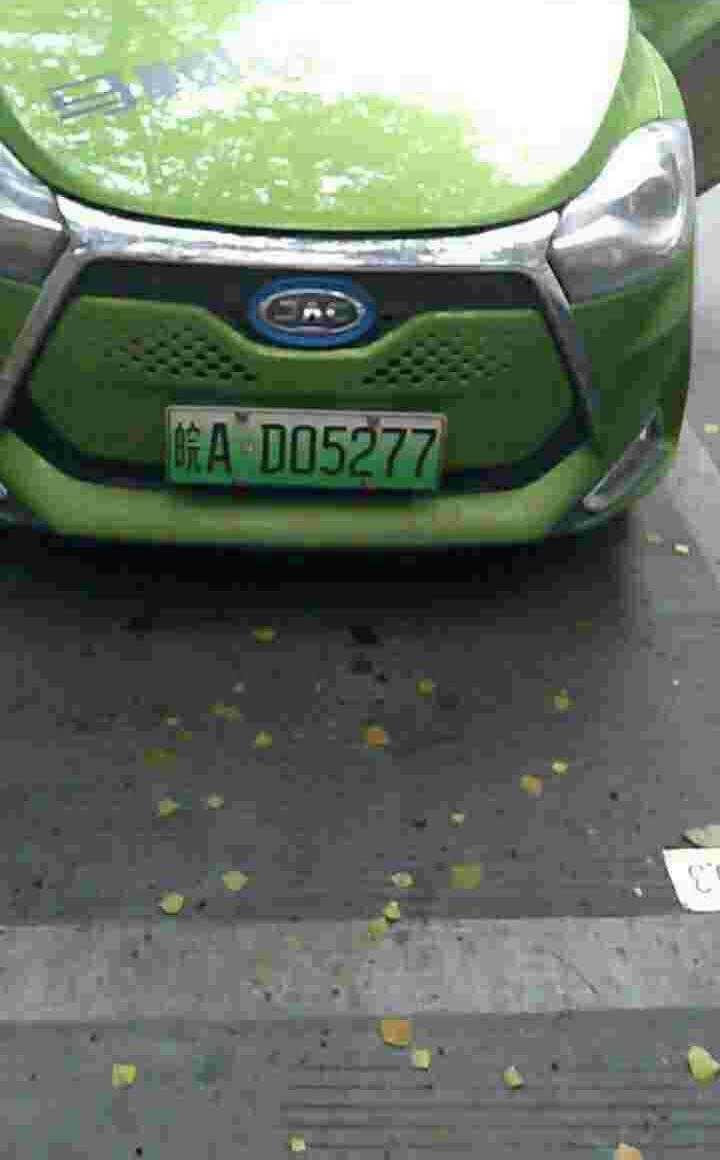car: (163, 394, 442, 499)
